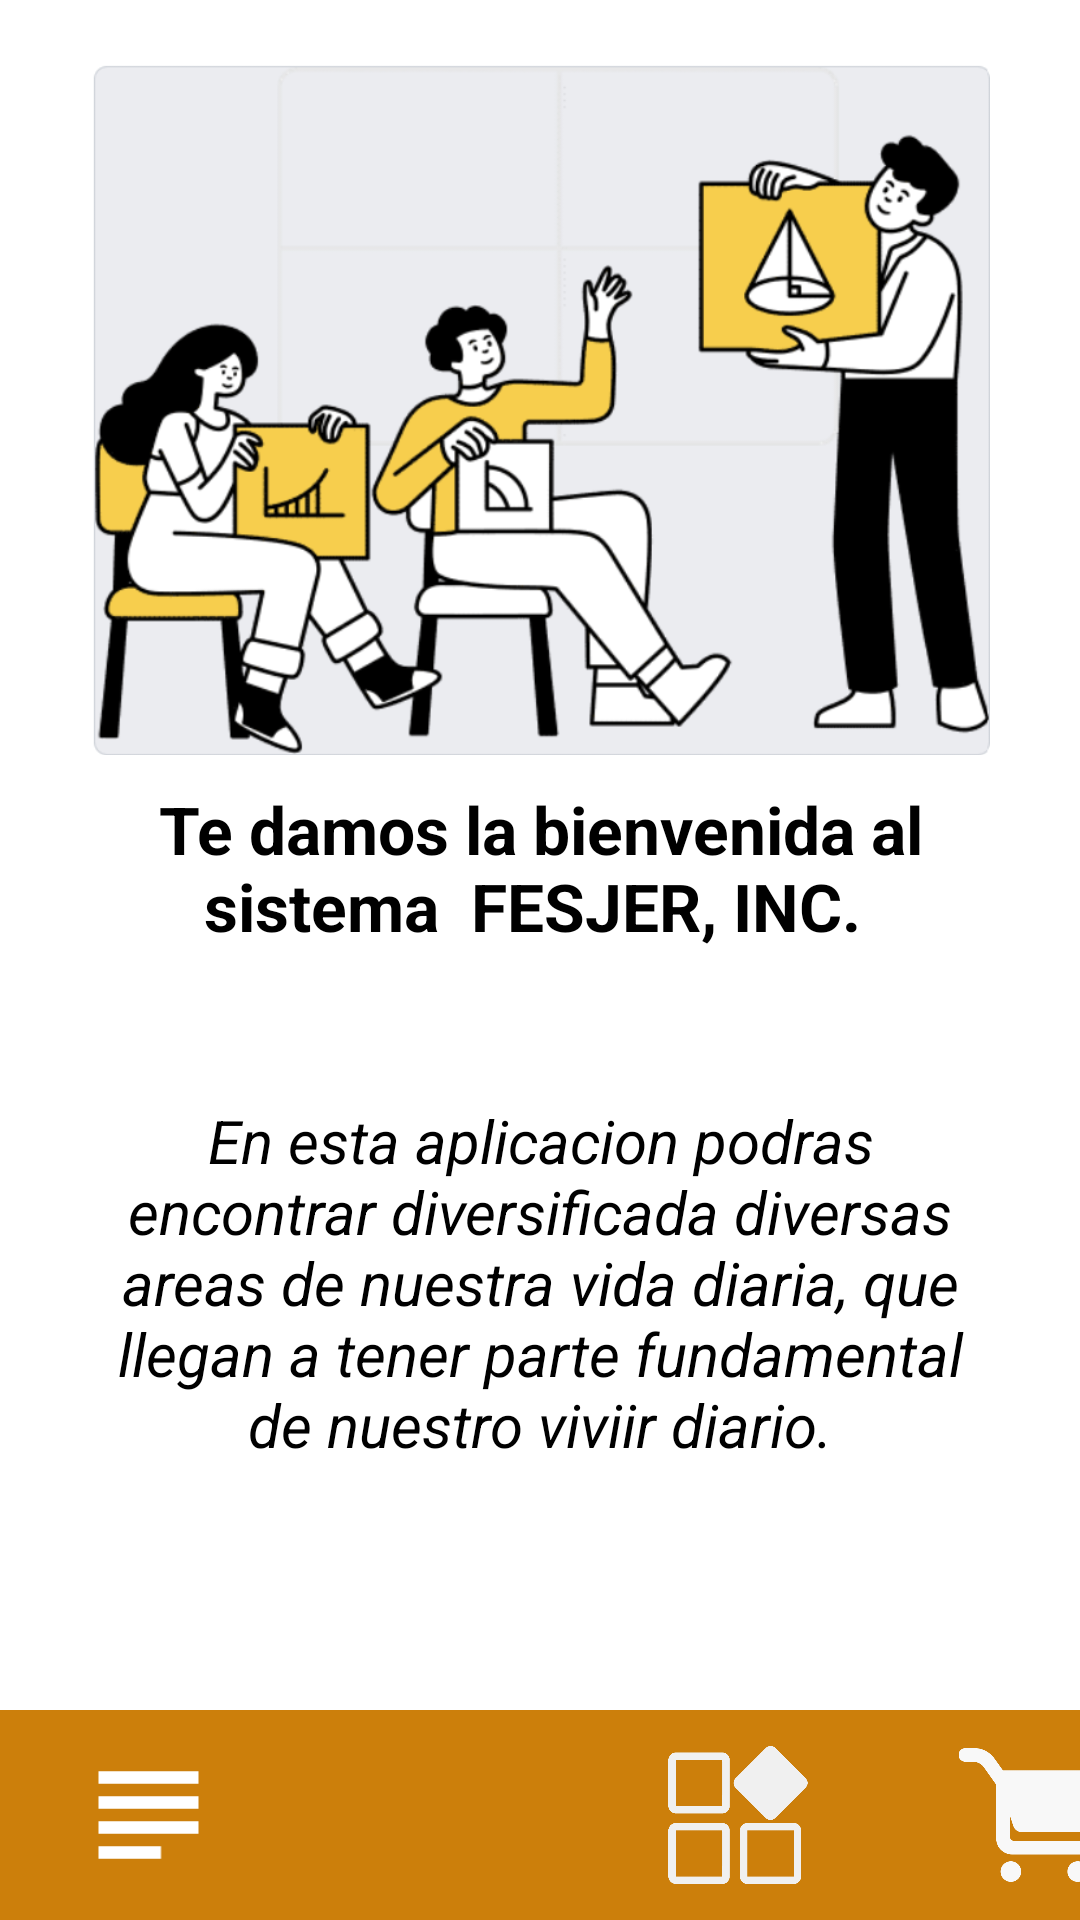

Screen size 1080x1920. Icon name, then its center in pixels as (x=x, y=y):
subject: (x=148, y=1815)
widget: (x=738, y=1815)
